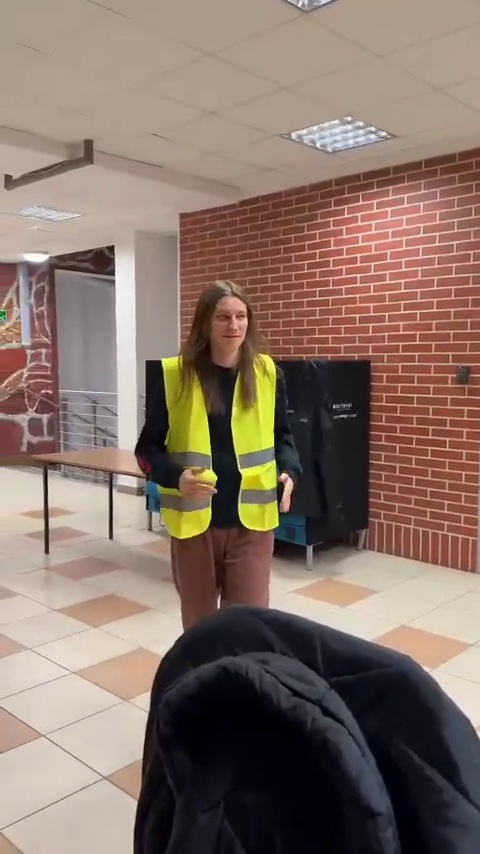vest: (136, 278, 305, 607)
